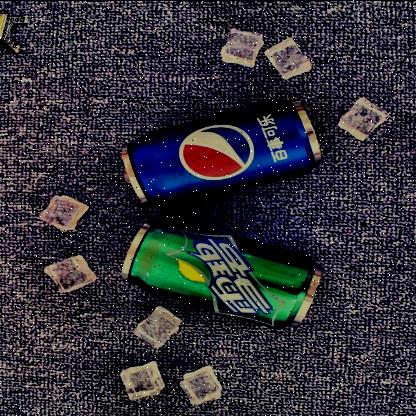Can: (110, 220, 326, 338), (118, 95, 324, 211)
